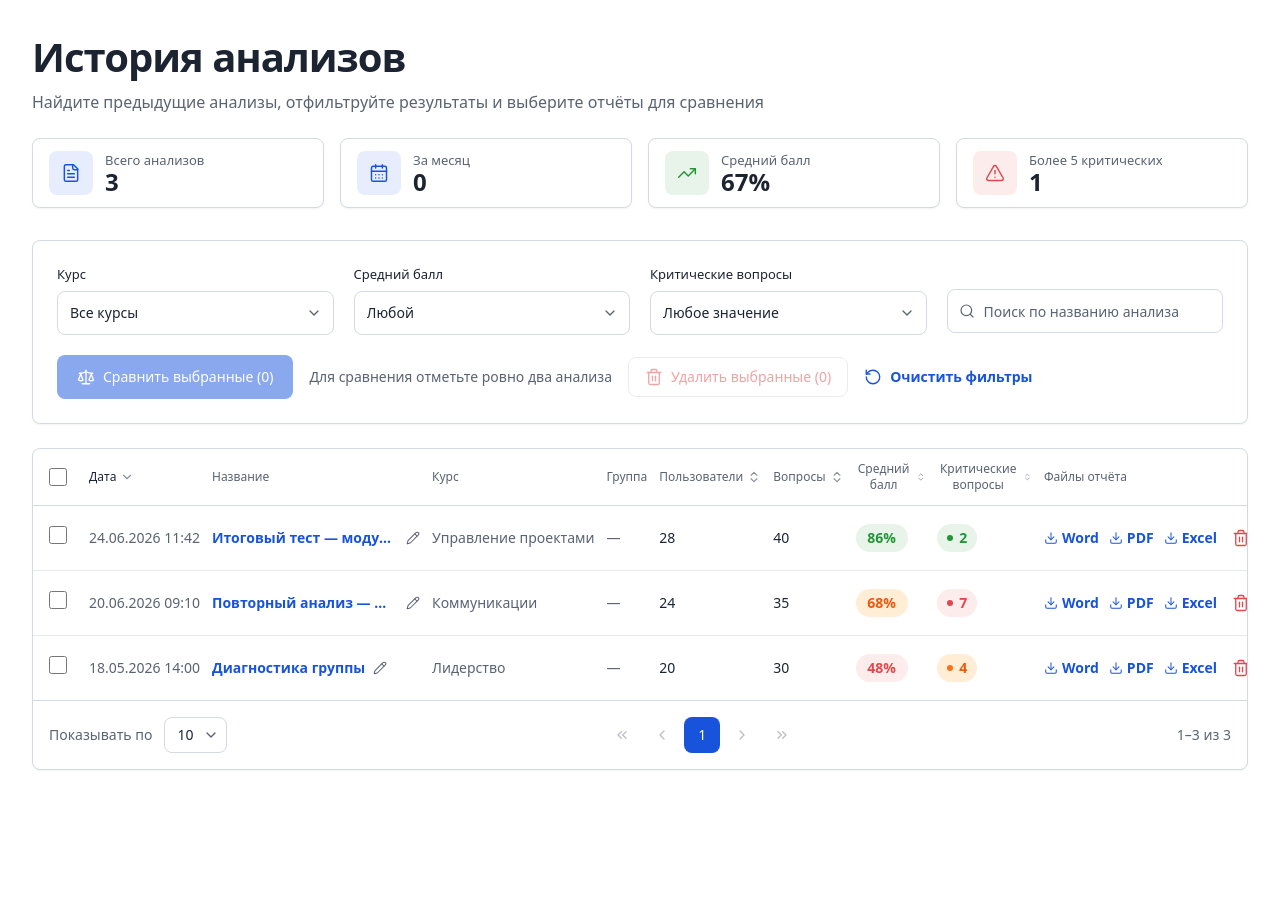
Scenario: History — open, rename, sort, delete options › renames an analysis inline via PATCH /runs/:id
Check: the link "Итоговый тест — модуль 3" is shown, box [212,528,398,548]
Click the button named "Переименовать «Итоговый тест — модуль 3»": (413, 538) [406,530,420,544]
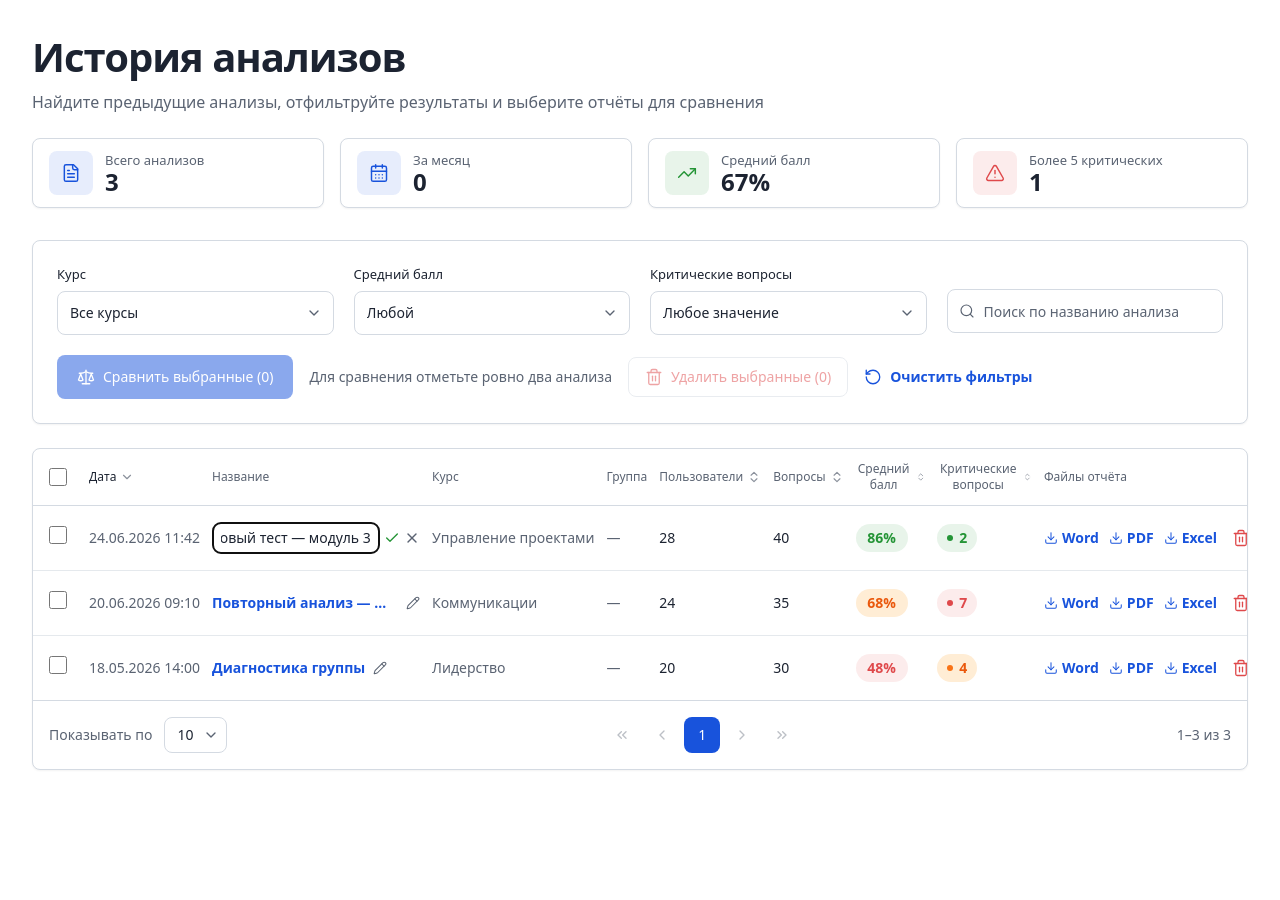
Replace the text in the field named "Новое название анализа" with "Новое": (296, 538) [212,522,380,554]
Then press Enter
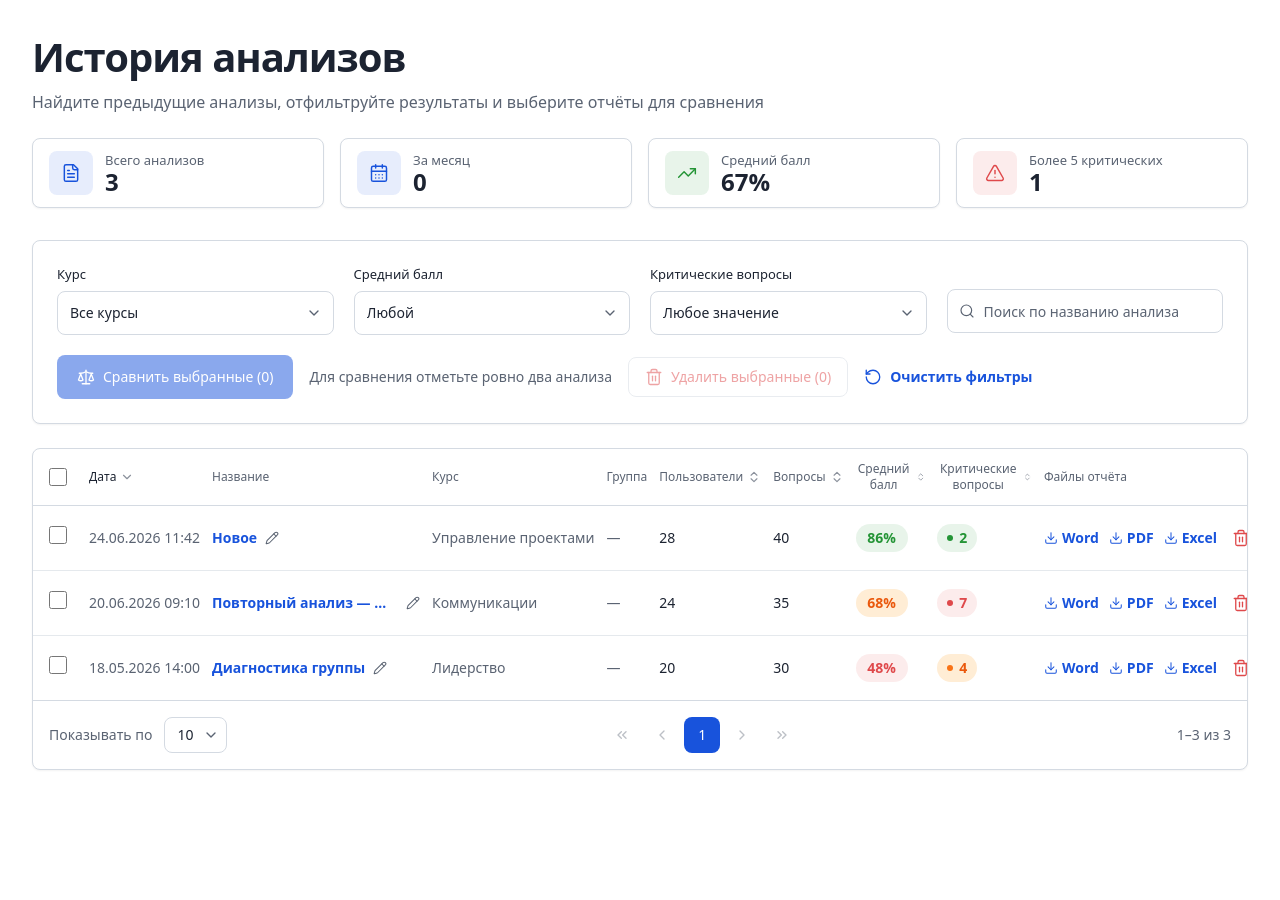
Check: the link "Новое" is shown, box [212,528,257,548]
